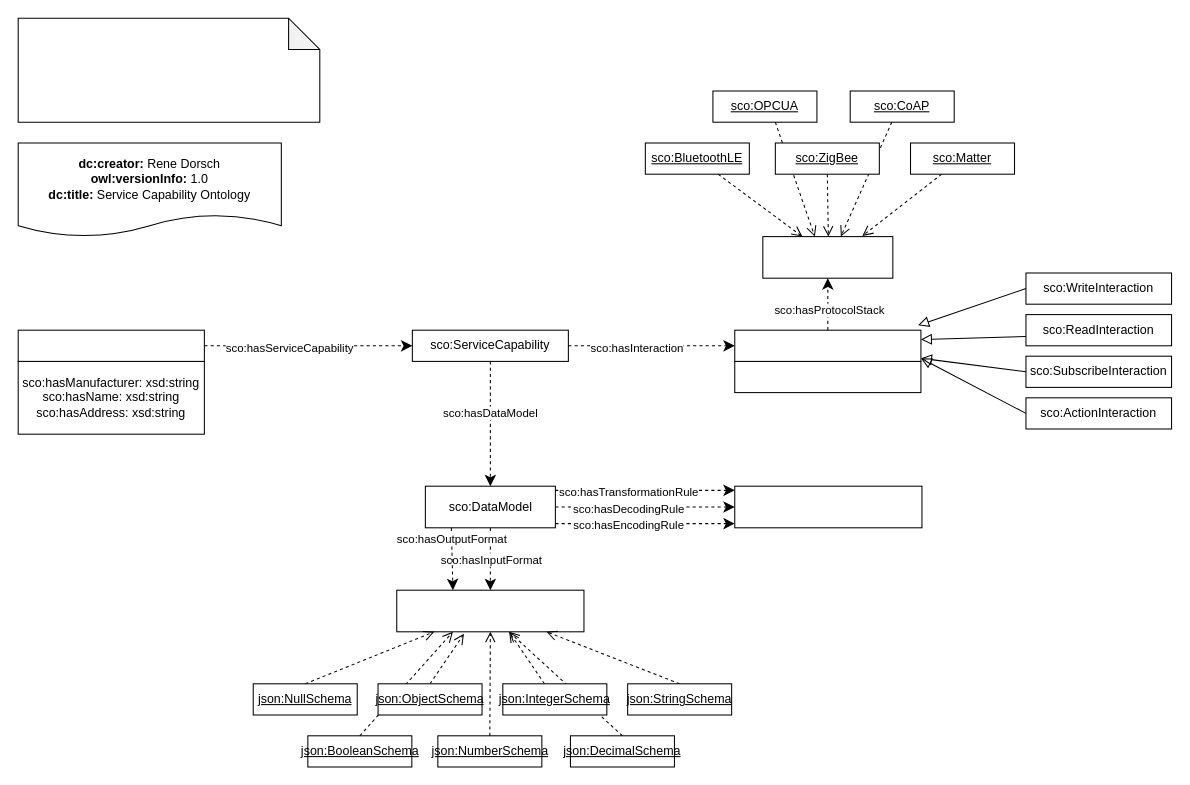
The diagram is 1190 pixels wide and 785 high, and some of its shapes have lost their labels. The shapes that lost their labels are listed below. From the top down, each one's centre as x and y in pixels, then its label:
At point 168,69: "sco : http://purl.org/sco/ns# json: https://www.w3.org/2019/wot/json-schema#".
At point 827,257: "sco:ProtocolStack".
At point 110,345: "sco:Device".
At point 827,345: "sco:ServiceInteraction".
At point 827,376: "sco:hasInteractionId: xsd:string".
At point 828,506: "sco:TransformationRule".
At point 490,610: "sco:Format".
